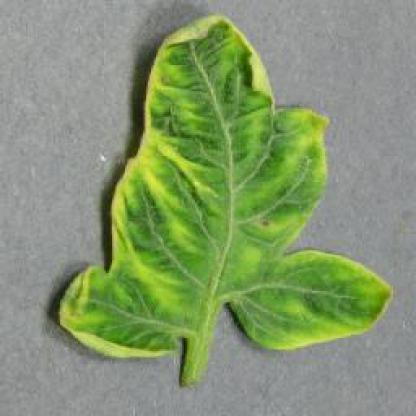good leaf: (33, 14, 314, 409), (130, 16, 411, 370), (123, 10, 275, 188), (200, 103, 358, 273), (43, 225, 204, 363), (200, 267, 396, 348)
